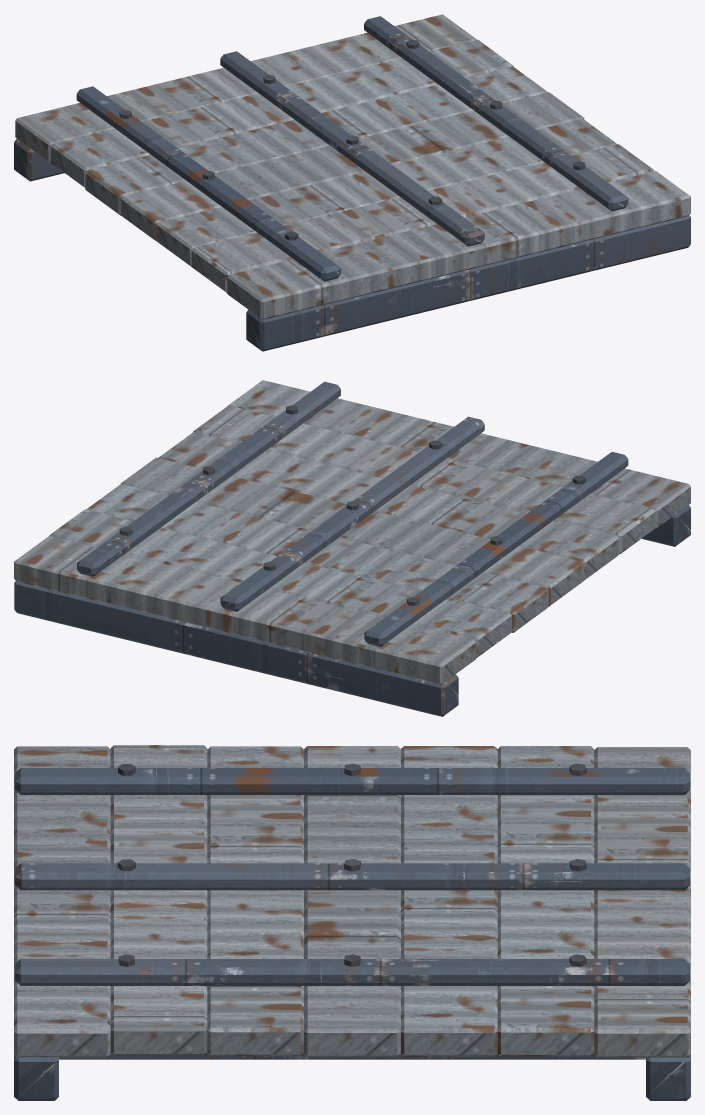
The model's file is duz_cati.glb.
3 renders of one model, top to bottom at view 1: azimuth 30°, elevation 25°; view 2: azimuth 150°, elevation 25°; view 3: azimuth 270°, elevation 25°, orthographic. The views are drawn at different scales.
Visible parts, largest first — view 1: duz_cati; view 2: duz_cati; view 3: duz_cati.
Boxes of the visible parts, x1,y1,x2,y2 form: duz_cati: (14,14,690,351); duz_cati: (14,380,690,716); duz_cati: (14,745,690,1100).
Bounding box in the file's own units: 3 × 0.475 × 3.
Materials: 1 (1 with a texture image).
